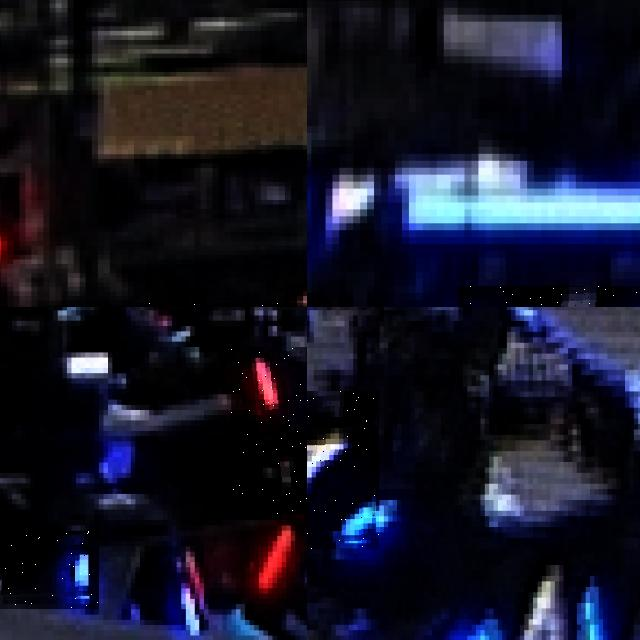B3: (0, 530, 98, 609)
R4: (307, 391, 379, 548), (471, 559, 603, 640)
R5: (231, 347, 307, 520), (231, 499, 307, 640)
